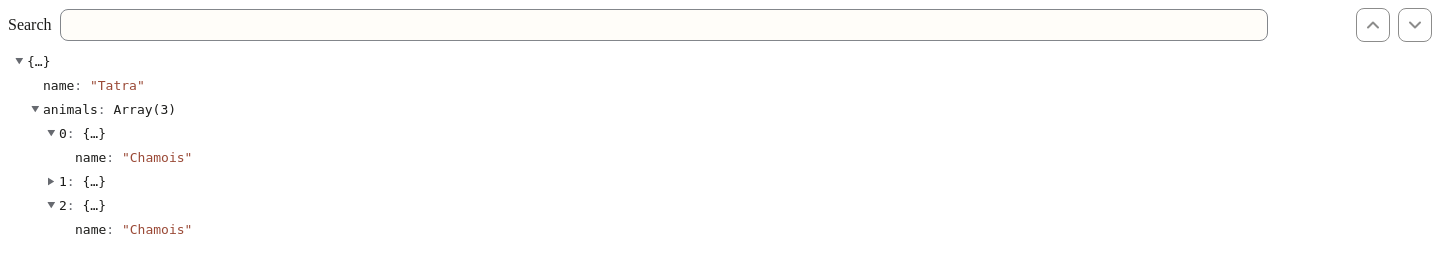
Test: ObjectInspector contract › search › sets the current match apart from the other matches
Type "chamois" into the search field at (664, 25), box [60, 9, 1268, 41]
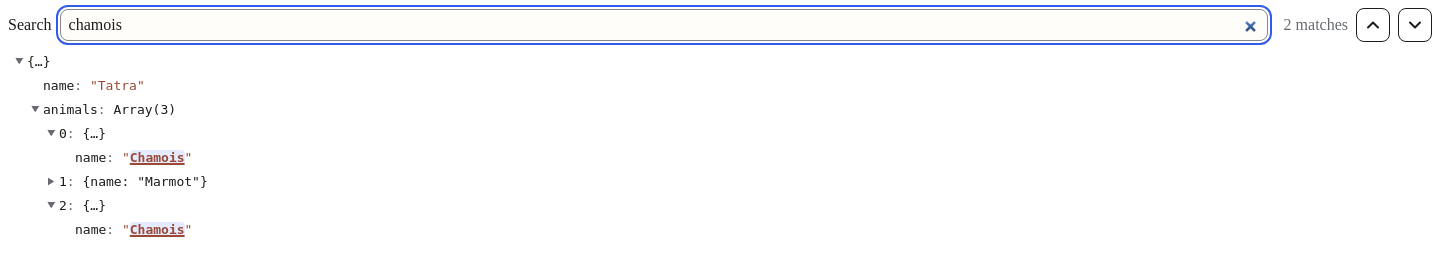
Result: the text "2 matches" is shown at [1276, 16, 1348, 34]
Press Enter
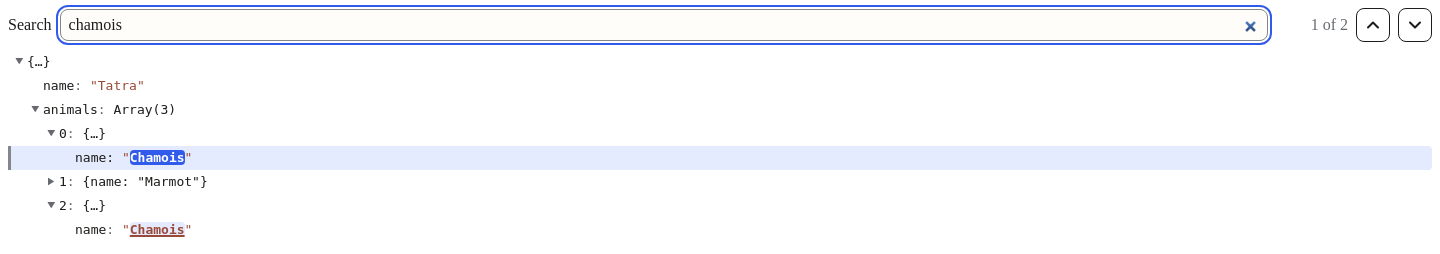
Expected: the 1st text "Chamois" is shown, [130, 150, 185, 165]
Result: the text "1 of 2" is shown at [1311, 16, 1348, 33]
